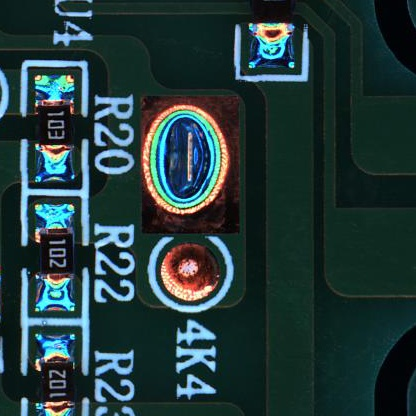spot: (158, 238, 224, 309)
